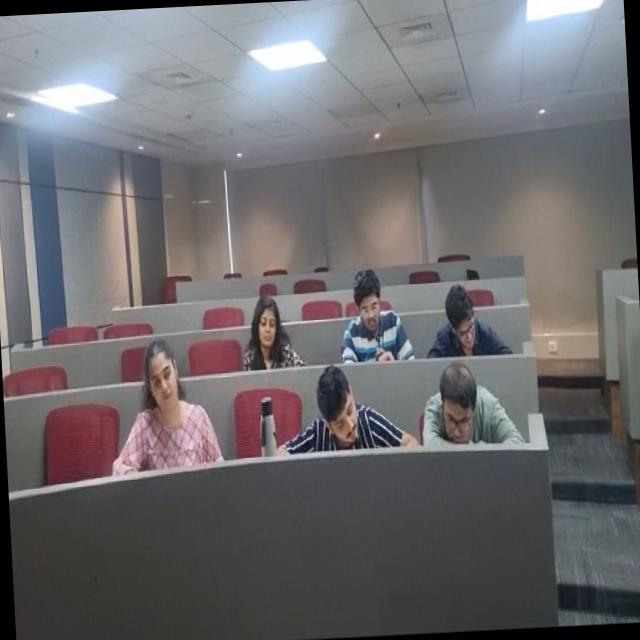cheating: (124, 316, 200, 464)
non-cheating: (411, 381, 492, 496), (296, 360, 378, 460), (426, 268, 494, 376), (337, 250, 401, 361), (238, 294, 292, 374)
